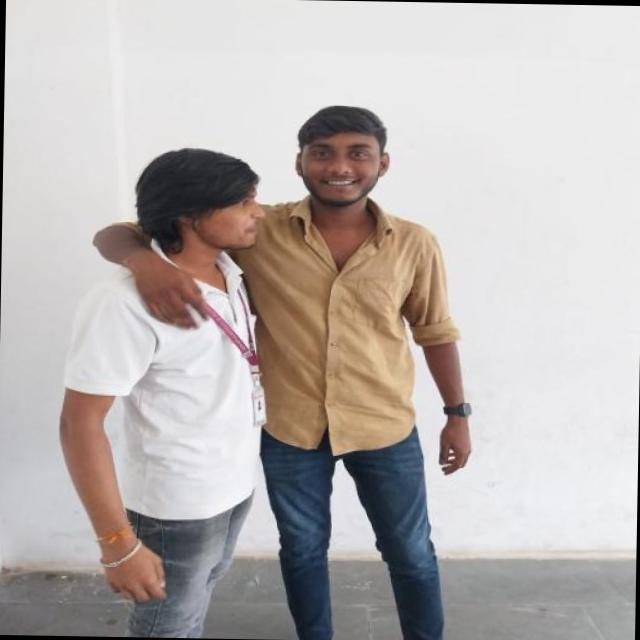id_card: (191, 268, 272, 432)
